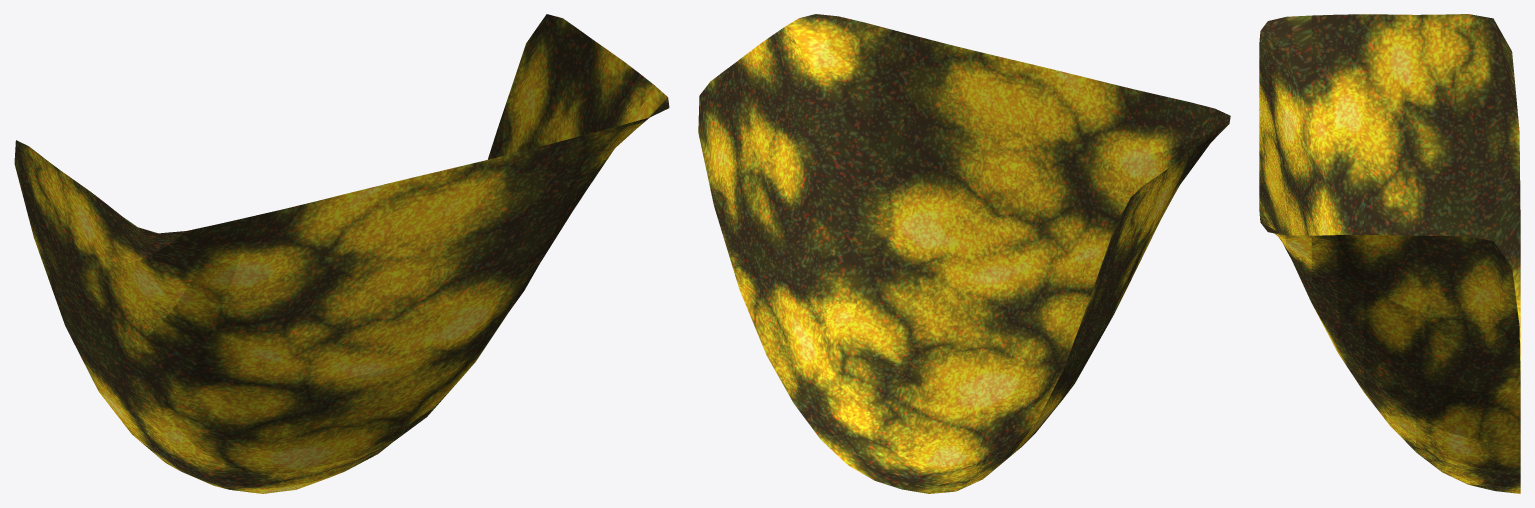
The model's file is Acid.fbx.
The picture shows the model from 3 angles, left to right: view 1: azimuth 30°, elevation 25°; view 2: azimuth 150°, elevation 25°; view 3: azimuth 270°, elevation 25°; orthographic projection. The views are drawn at different scales.
Parts seen in each view (by area): view 1: Plane; view 2: Plane; view 3: Plane.
Part boxes in pixels (bbox=[...]): Plane: bbox=[14, 14, 669, 493]; Plane: bbox=[698, 14, 1230, 493]; Plane: bbox=[1259, 14, 1520, 493].
Bounding box in the file's own units: 736 × 549 × 368.
Materials: 1 (1 with a texture image).
